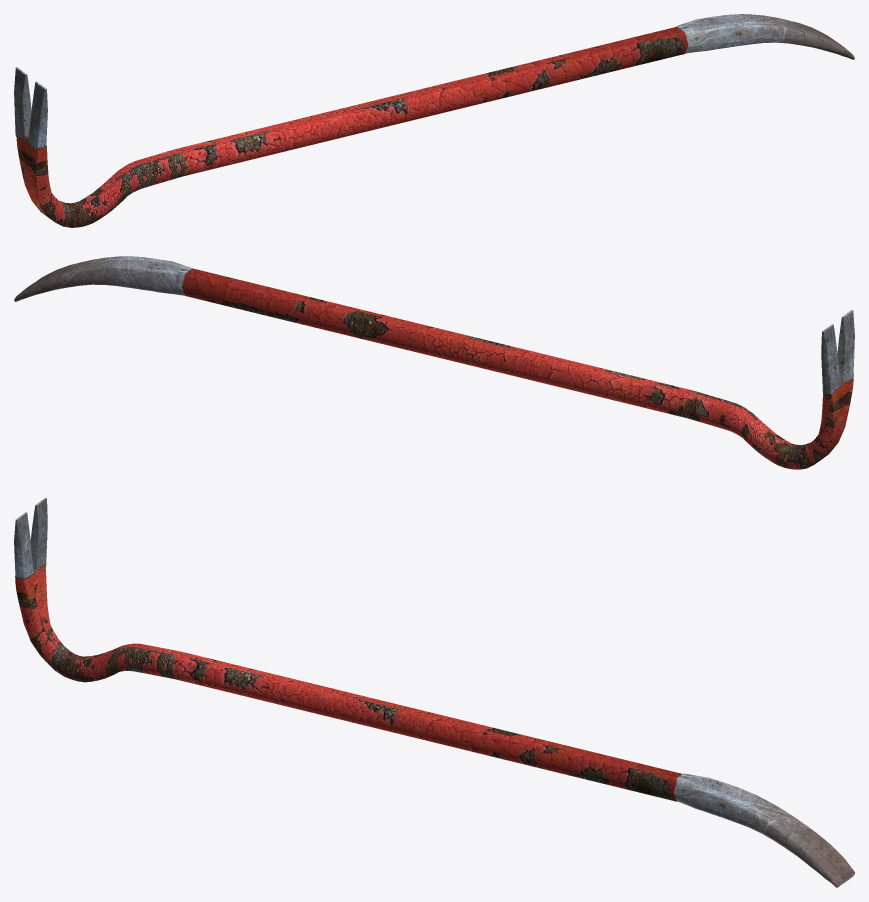
The model's file is Crowbar-3.fbx.
The picture shows the model from 3 angles, top to bottom: view 1: azimuth 30°, elevation 25°; view 2: azimuth 150°, elevation 25°; view 3: azimuth 330°, elevation 25°; orthographic projection.
Parts seen in each view (by area): view 1: Crowbar:Mesh, Crowbar2:Mesh, Crowbar3:Mesh; view 2: Crowbar:Mesh, Crowbar2:Mesh, Crowbar3:Mesh; view 3: Crowbar:Mesh, Crowbar2:Mesh, Crowbar3:Mesh.
Boxes of the visible parts, left/top/right/bottom form: Crowbar:Mesh: left=16, top=26, right=688, bottom=227; Crowbar2:Mesh: left=676, top=14, right=854, bottom=59; Crowbar3:Mesh: left=14, top=67, right=47, bottom=151; Crowbar:Mesh: left=182, top=268, right=853, bottom=469; Crowbar2:Mesh: left=14, top=256, right=192, bottom=301; Crowbar3:Mesh: left=821, top=310, right=854, bottom=394; Crowbar:Mesh: left=15, top=563, right=681, bottom=801; Crowbar2:Mesh: left=673, top=773, right=854, bottom=887; Crowbar3:Mesh: left=14, top=498, right=47, bottom=578.
Size of the model in its own units: 27.21 by 5.52 by 1.73.
Materials: 2 (2 with a texture image).
